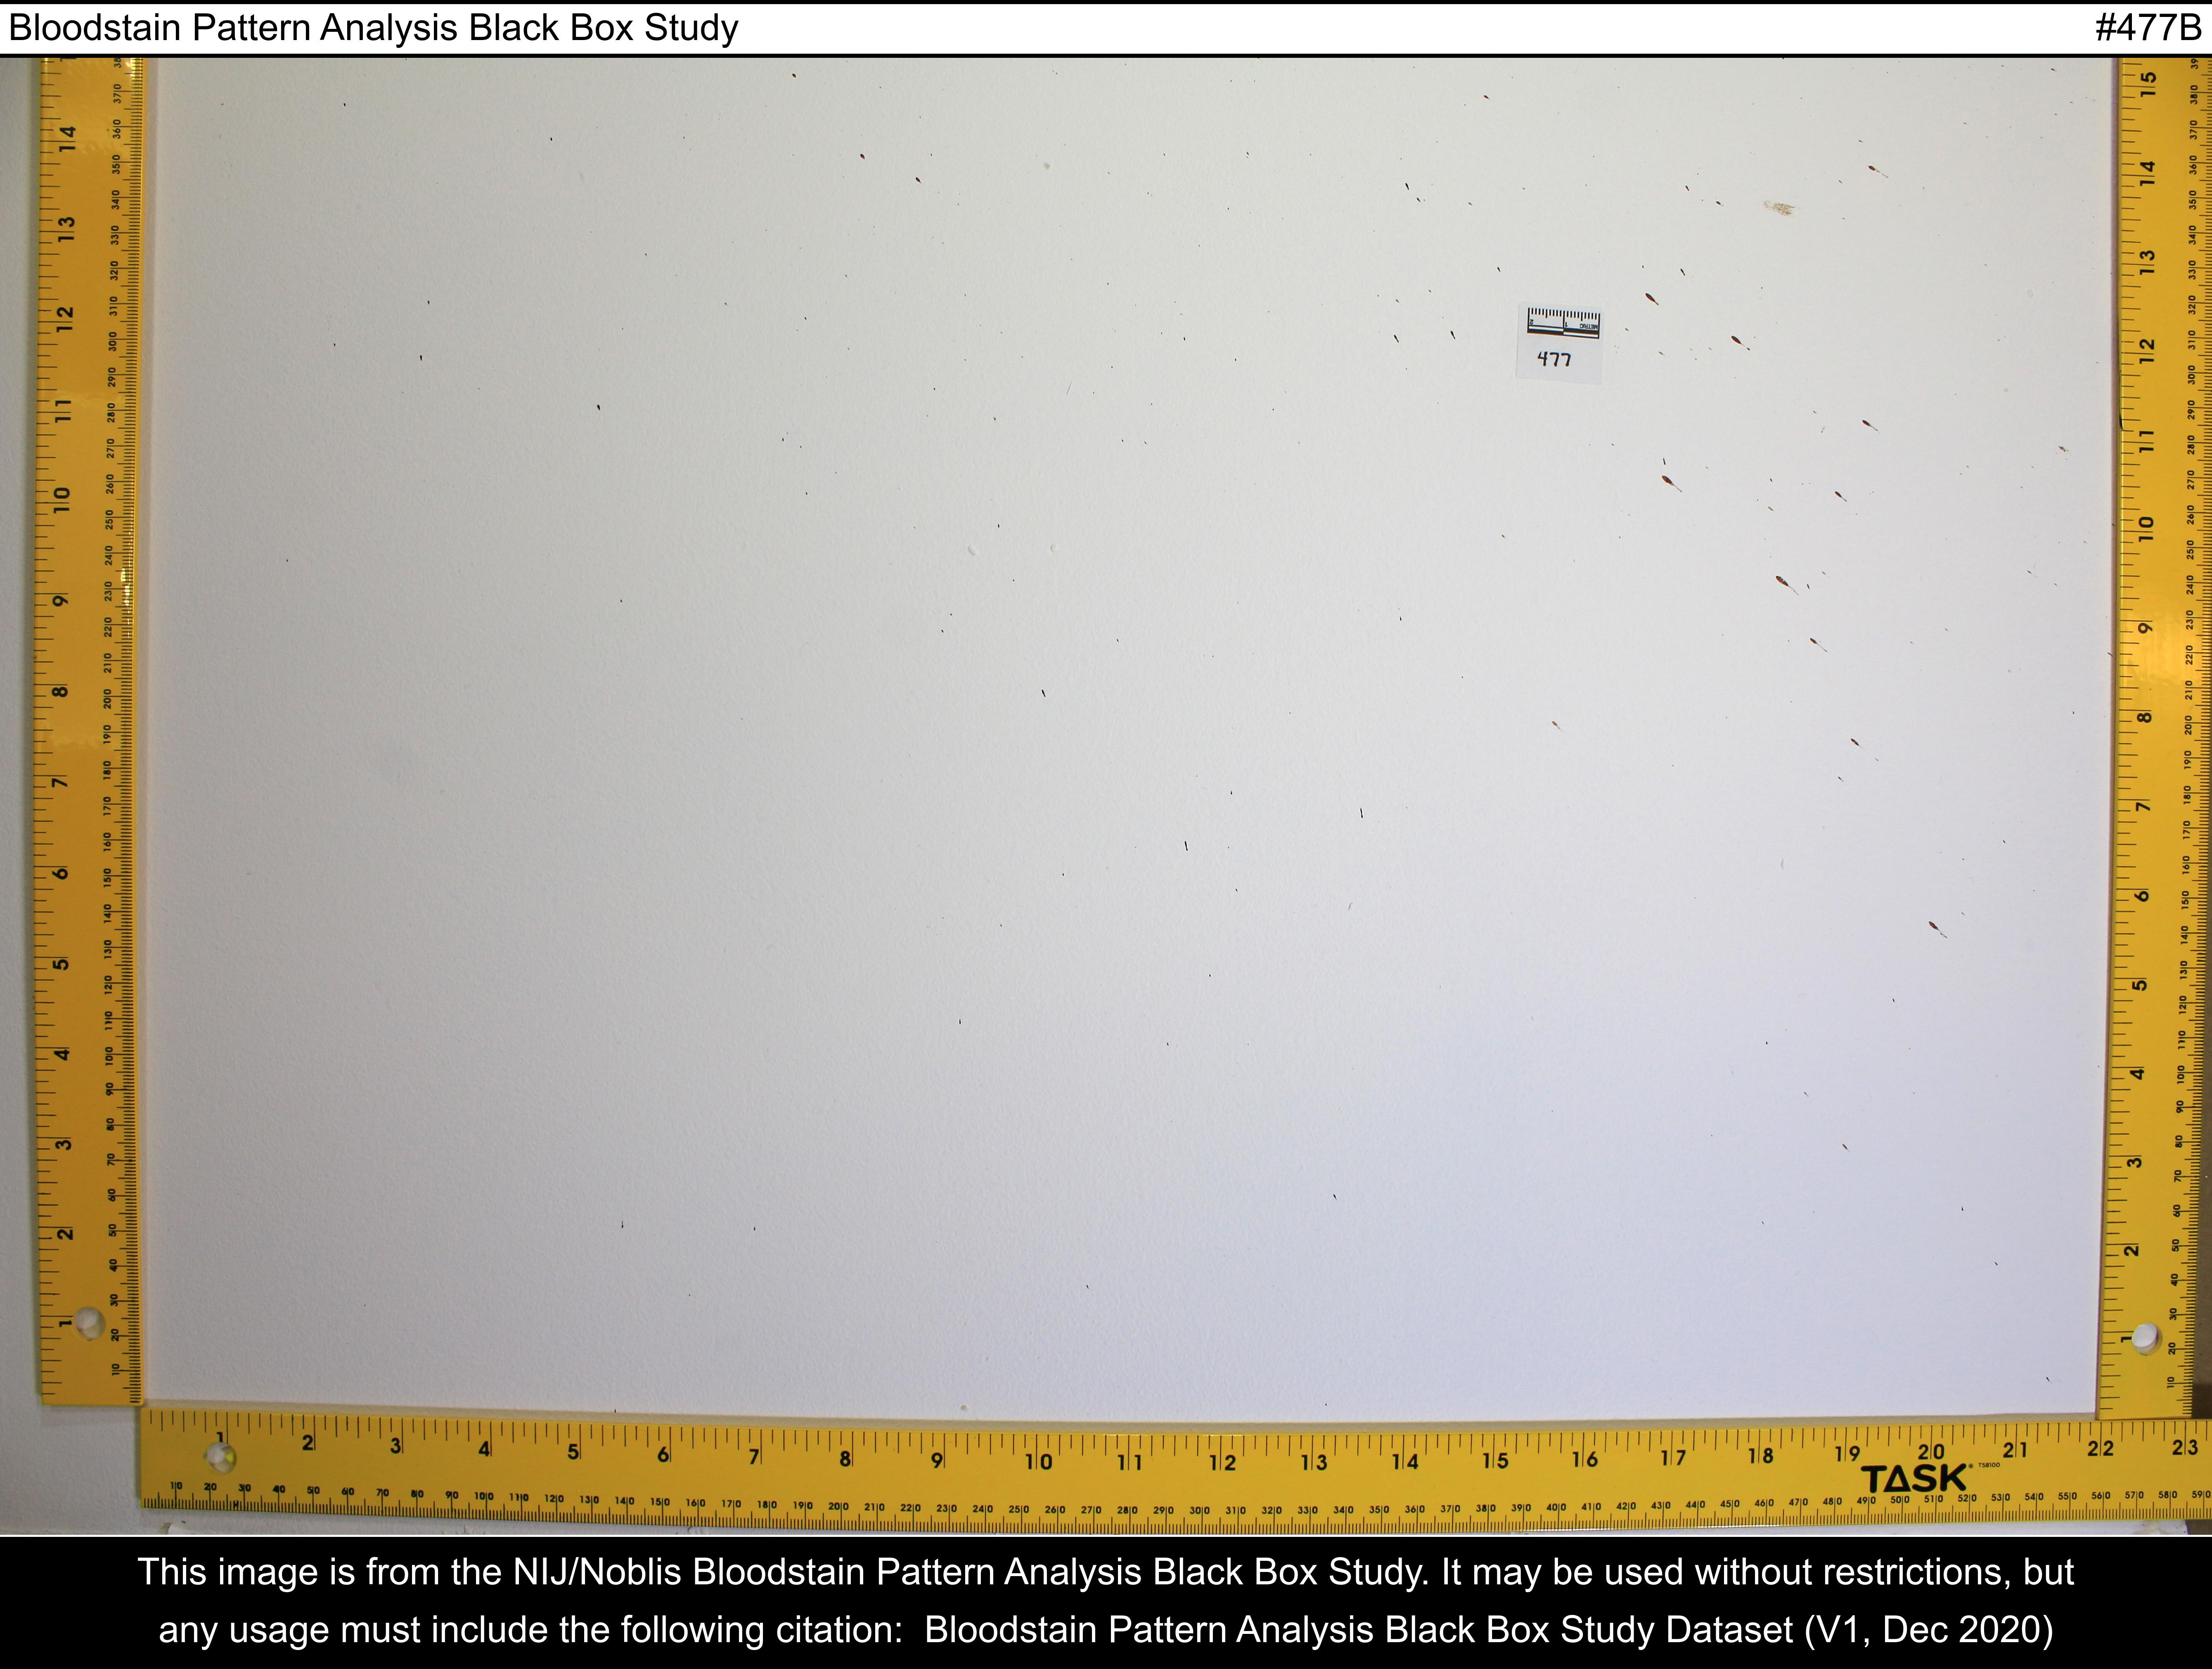Impact: (1339, 61, 2114, 1022)
